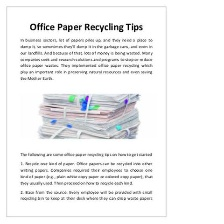book: (33, 87, 144, 140)
